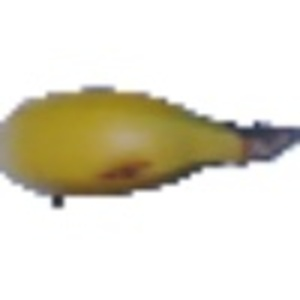banana: (1, 77, 293, 202)
